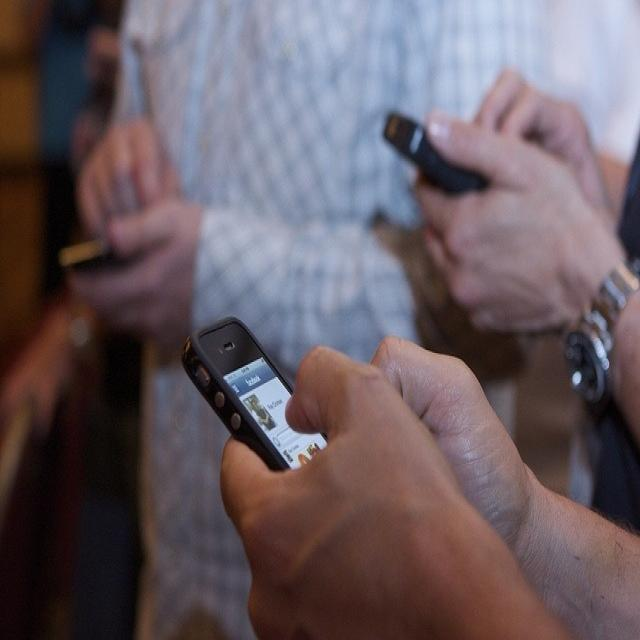E-waste: (172, 295, 322, 475)
